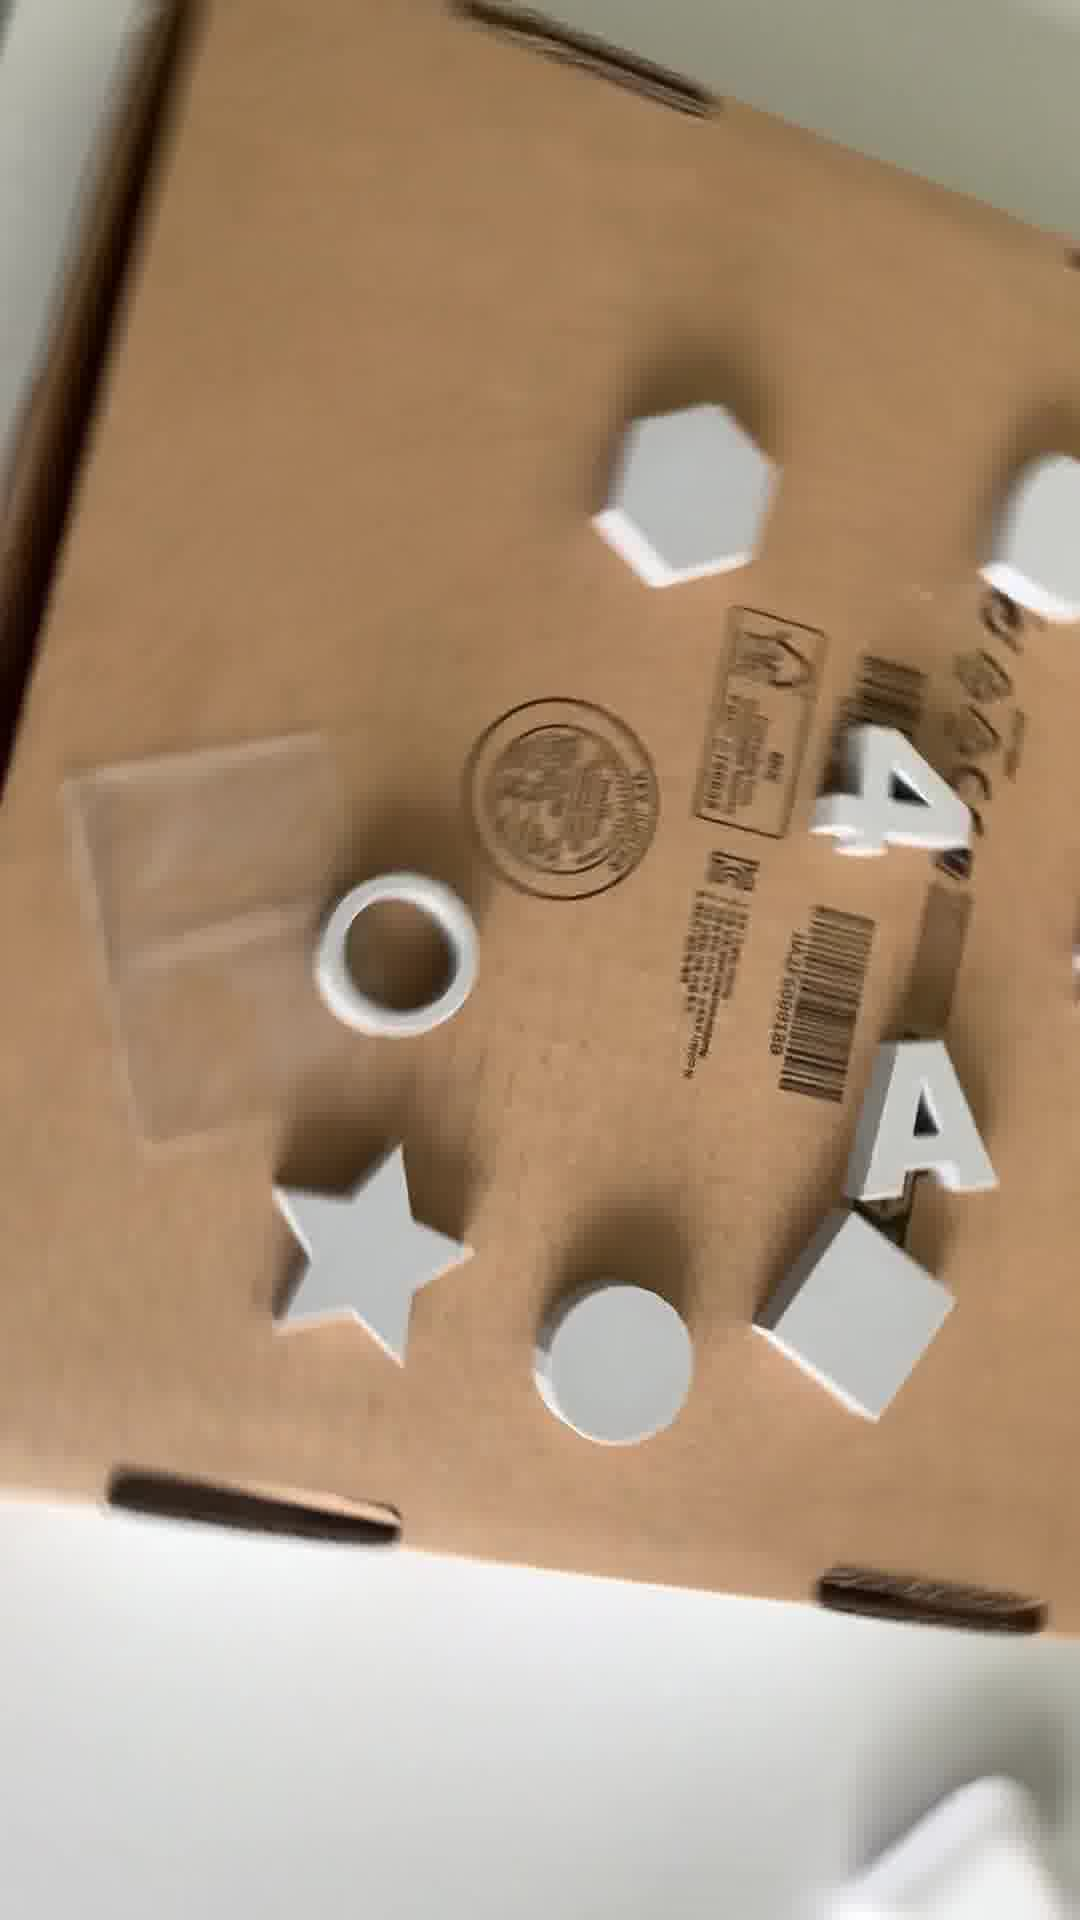Gray A-letter: (835, 1034, 1010, 1212)
Gray circle: (530, 1283, 692, 1447)
Gray four: (810, 716, 990, 866)
Gray heart: (977, 444, 1080, 659)
Gray hexagon: (600, 392, 785, 587)
Gray ring: (310, 873, 484, 1044)
Gray square: (752, 1205, 949, 1418)
Gray star: (269, 1153, 491, 1364)
